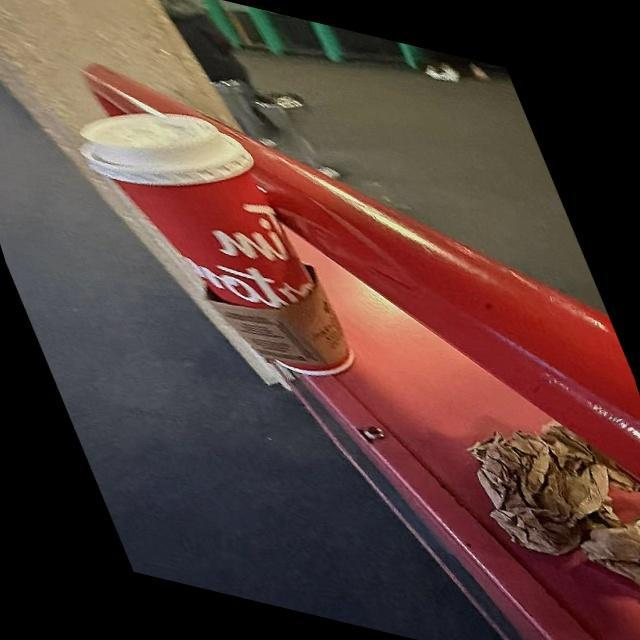timmies: (43, 69, 380, 413)
